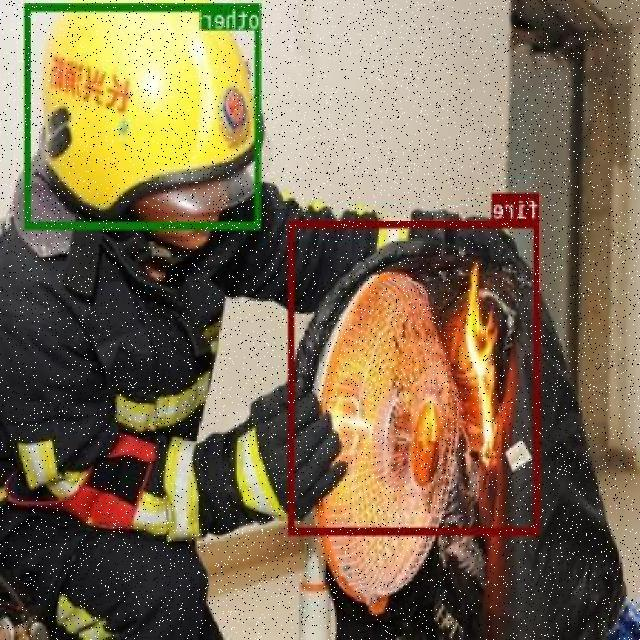other: (26, 2, 262, 226)
